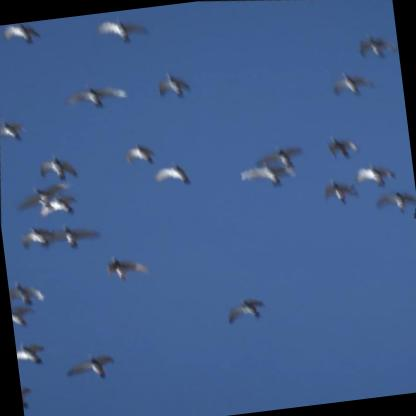bird: (9, 170, 83, 217), (62, 73, 136, 118), (88, 7, 157, 54), (247, 132, 313, 178), (58, 343, 126, 387), (233, 154, 301, 196), (48, 215, 109, 259), (320, 64, 383, 105), (97, 250, 157, 291), (32, 146, 90, 188), (349, 154, 407, 196), (345, 27, 400, 69), (219, 291, 273, 330), (315, 172, 364, 212), (367, 181, 416, 220), (32, 188, 85, 224), (316, 129, 366, 166), (150, 65, 196, 105), (7, 275, 53, 313), (0, 18, 51, 50), (117, 134, 162, 170), (150, 157, 195, 191), (12, 222, 56, 255), (15, 337, 53, 374), (0, 111, 35, 143), (11, 302, 36, 331), (20, 382, 37, 413)
